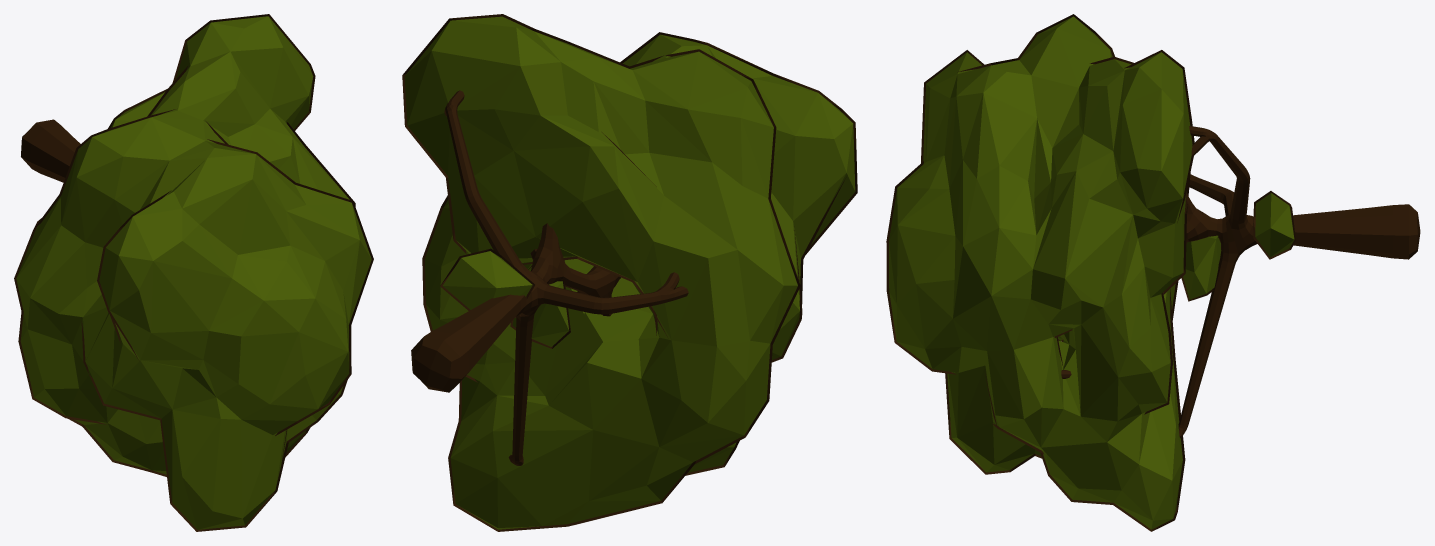
File: Tree_varient_2_(Outlines)v007.fbx
The picture shows the model from 3 angles, left to right: view 1: azimuth 30°, elevation 25°; view 2: azimuth 150°, elevation 25°; view 3: azimuth 270°, elevation 25°; orthographic projection. The views are drawn at different scales.
Parts seen in each view (by area): view 1: Tree; view 2: Tree; view 3: Tree.
Boxes of the visible parts, x1,y1,x2,y2 form: Tree: (14,14,373,531); Tree: (402,14,857,531); Tree: (886,14,1420,531).
Bounding box in the file's own units: 4.73 × 6.47 × 6.64.
